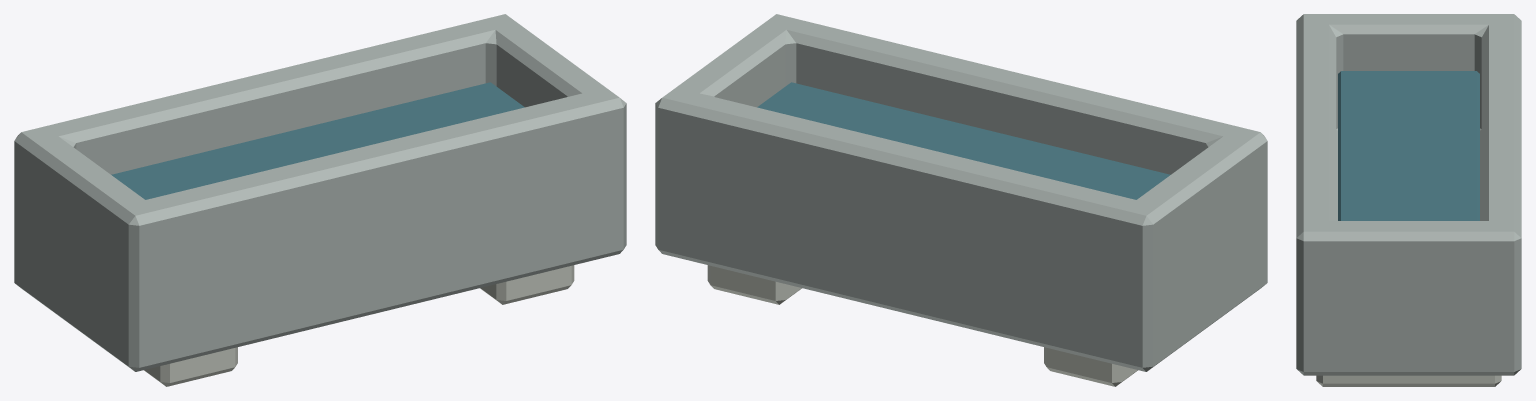
3 views of the same model, side by side, from view 1: azimuth 30°, elevation 25°; view 2: azimuth 150°, elevation 25°; view 3: azimuth 270°, elevation 25° (orthographic). The views are drawn at different scales.
Parts seen in each view (by area): view 1: village-water-trough-01; view 2: village-water-trough-01; view 3: village-water-trough-01.
Part boxes in pixels (x1,y1,x2,y2): village-water-trough-01: [14, 14, 626, 386]; village-water-trough-01: [655, 14, 1267, 386]; village-water-trough-01: [1296, 14, 1521, 386].
Size of the model in its own units: 1.6 by 0.58 by 0.68.
